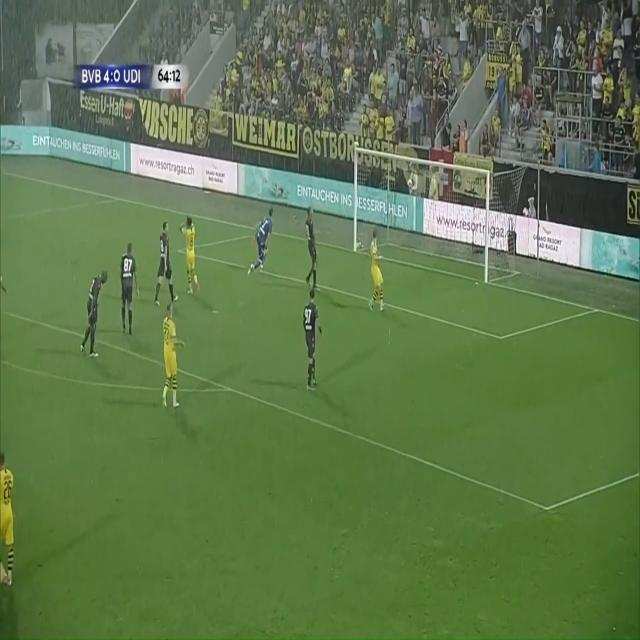goalkeeper: (246, 205, 286, 288)
player: (0, 441, 25, 593), (299, 201, 330, 303), (301, 287, 329, 393), (365, 224, 391, 329), (84, 265, 110, 368), (162, 302, 187, 408), (155, 216, 181, 311), (117, 242, 142, 337), (179, 210, 208, 291)
